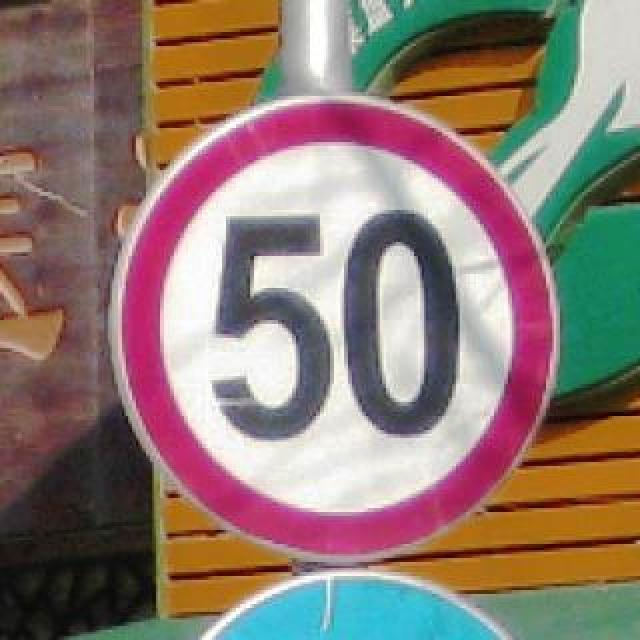50 kph: (106, 90, 558, 558)
